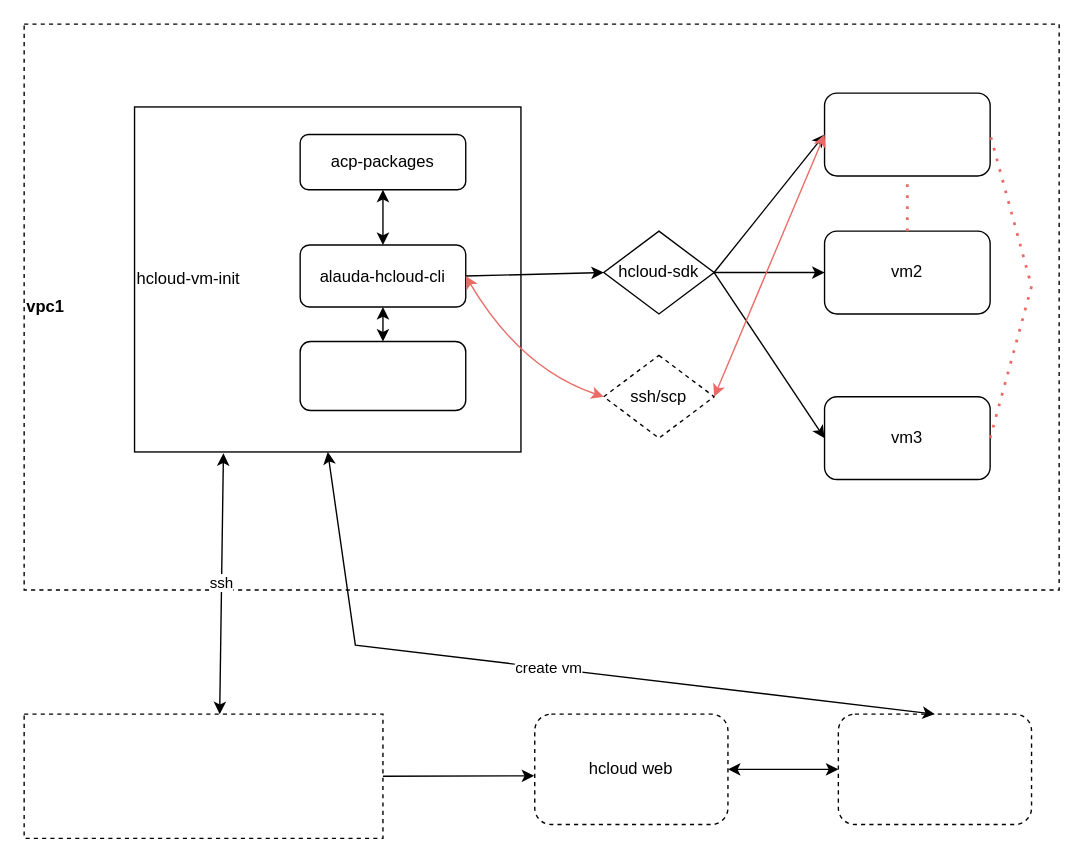
Some shapes in this 1083 by 863 pixel diagram are drawn without their labels. Here are the shapes that lost their labels. From the top down, the box of each, then its label:
(823, 92, 990, 176): vm1(master1)
(299, 340, 466, 411): config(cert,instance)
(23, 713, 383, 838): user
(837, 713, 1032, 825): hcloud-vm-init ami
